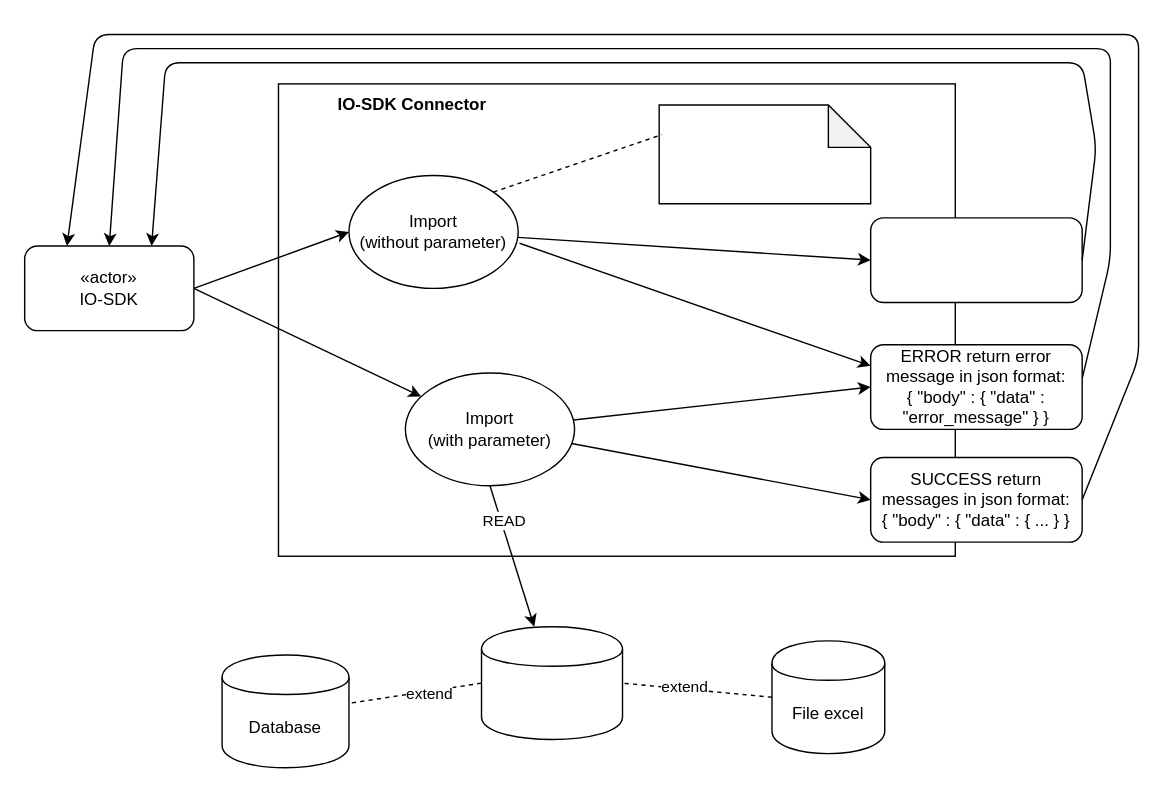
Some shapes in this 1175 by 792 pixel diagram are drawn without their labels. The centre of each missing label's shape, as x and y in pixels:
Note read connector configuration with form's descriptor: (x=764, y=154)
SUCCESS return form descriptor in json format: { "form" : ... }: (x=975, y=259)
« actor» PA database {abstract}: (x=551, y=682)
